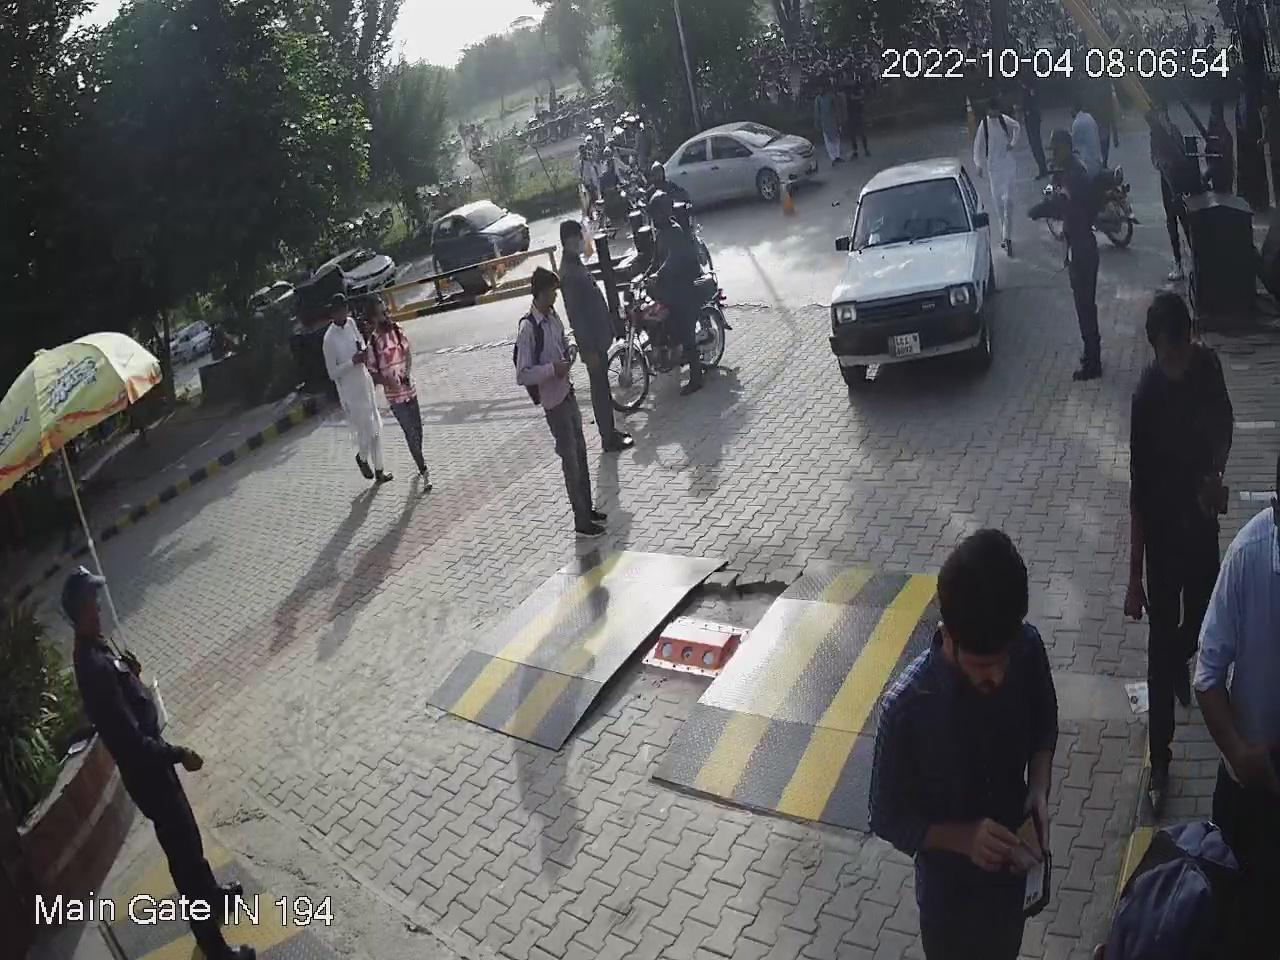windshield: (843, 175, 978, 260)
